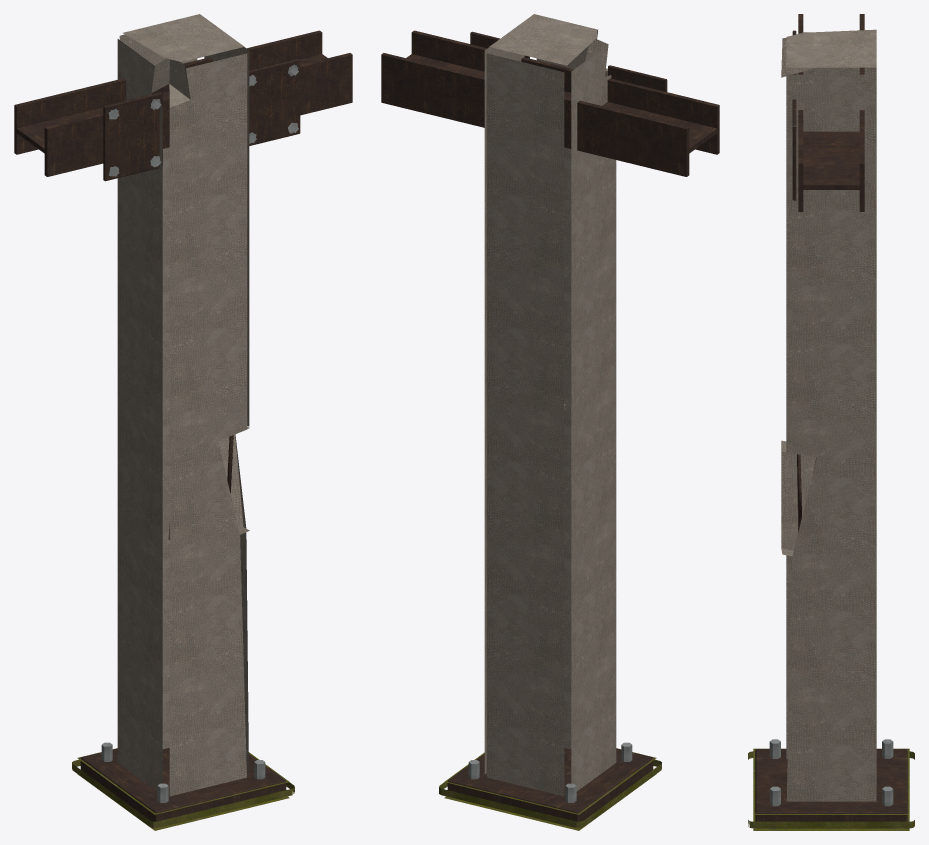
The model's file is lod2_NOT_APPROVED.glb.
The picture shows the model from 3 angles, left to right: view 1: azimuth 30°, elevation 25°; view 2: azimuth 150°, elevation 25°; view 3: azimuth 270°, elevation 25°; orthographic projection.
Visible parts, largest first — view 1: f3_weathered_concrete_surface, f3_oxidized_iron_surface, f3_damp_concrete_surface, f3_bare_worn_steel_surface; view 2: f3_weathered_concrete_surface, f3_oxidized_iron_surface, f3_damp_concrete_surface, f3_bare_worn_steel_surface; view 3: f3_weathered_concrete_surface, f3_oxidized_iron_surface, f3_damp_concrete_surface, f3_bare_worn_steel_surface.
Boxes of the visible parts, <box> form: f3_weathered_concrete_surface: <box>117,14,249,796</box>; f3_oxidized_iron_surface: <box>14,30,352,821</box>; f3_damp_concrete_surface: <box>72,748,294,830</box>; f3_bare_worn_steel_surface: <box>101,64,298,802</box>; f3_weathered_concrete_surface: <box>484,14,616,796</box>; f3_oxidized_iron_surface: <box>381,30,719,821</box>; f3_damp_concrete_surface: <box>439,748,661,830</box>; f3_bare_worn_steel_surface: <box>468,742,632,802</box>; f3_weathered_concrete_surface: <box>781,29,876,801</box>; f3_oxidized_iron_surface: <box>755,14,907,821</box>; f3_damp_concrete_surface: <box>748,748,914,830</box>; f3_bare_worn_steel_surface: <box>769,739,893,806</box>.
Size of the model in its own units: 2.4 by 5.6 by 1.13.
4 materials, 4 textured.
